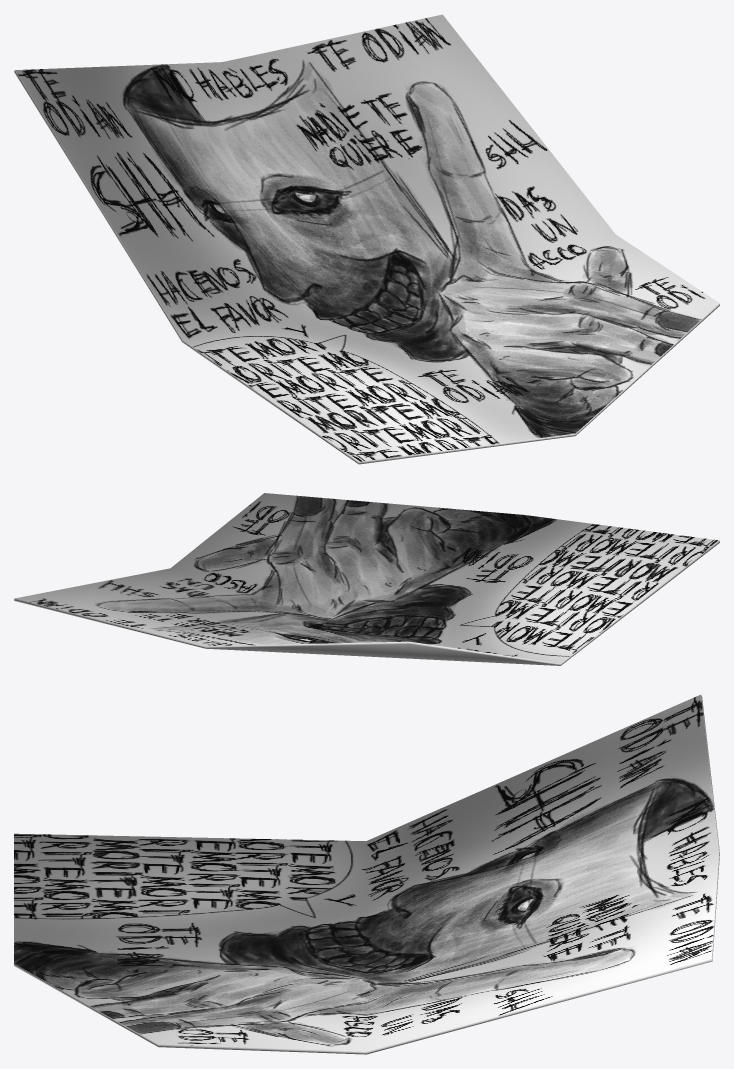
File: Dibujo 1.fbx
3 views of the same model, one above another, from view 1: azimuth 30°, elevation 25°; view 2: azimuth 150°, elevation 25°; view 3: azimuth 270°, elevation 25° (orthographic). The views are drawn at different scales.
Parts seen in each view (by area): view 1: Papel 1; view 2: Papel 1; view 3: Papel 1.
Part boxes in pixels (x1=…): Papel 1: x1=14, y1=14, x2=719, y2=464; Papel 1: x1=14, y1=493, x2=719, y2=665; Papel 1: x1=14, y1=694, x2=719, y2=1054.
Bounding box in the file's own units: 14.91 × 5.48 × 21.08.
Materials: 1 (1 with a texture image).
